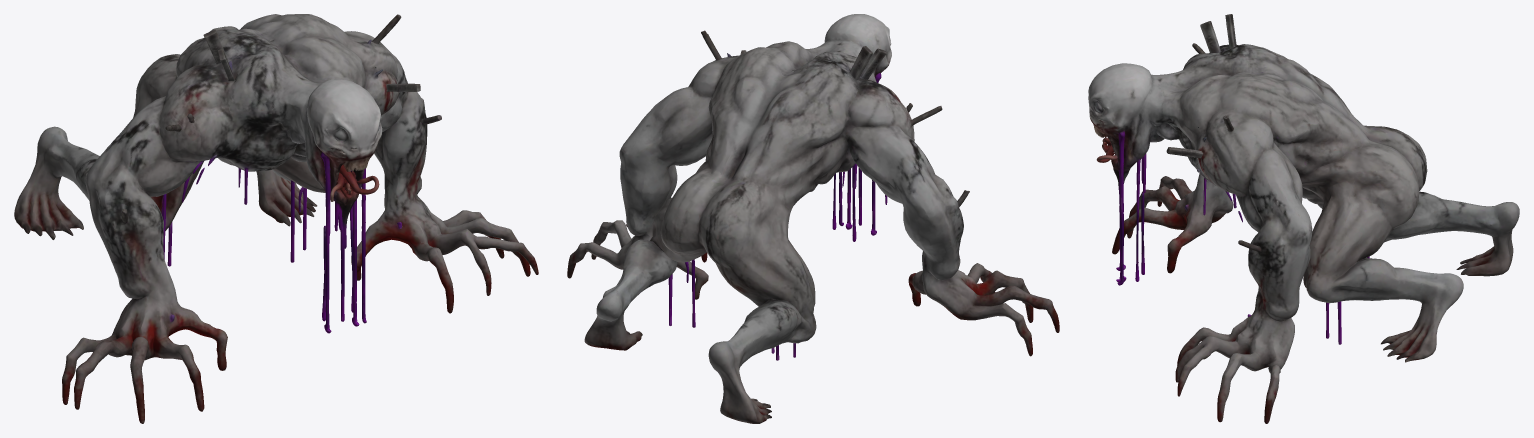
Rendered from warden.glb.
3 renders of one model, left to right at view 1: azimuth 30°, elevation 25°; view 2: azimuth 150°, elevation 25°; view 3: azimuth 270°, elevation 25°, orthographic. The views are drawn at different scales.
Visible parts, largest first — view 1: world; view 2: world; view 3: world.
Boxes of the visible parts, bbox=[...] form: world: bbox=[14, 14, 538, 423]; world: bbox=[567, 14, 1059, 423]; world: bbox=[1088, 14, 1519, 423].
Bounding box in the file's own units: 1 × 0.6242 × 0.8753.
Materials: 1 (1 with a texture image).
